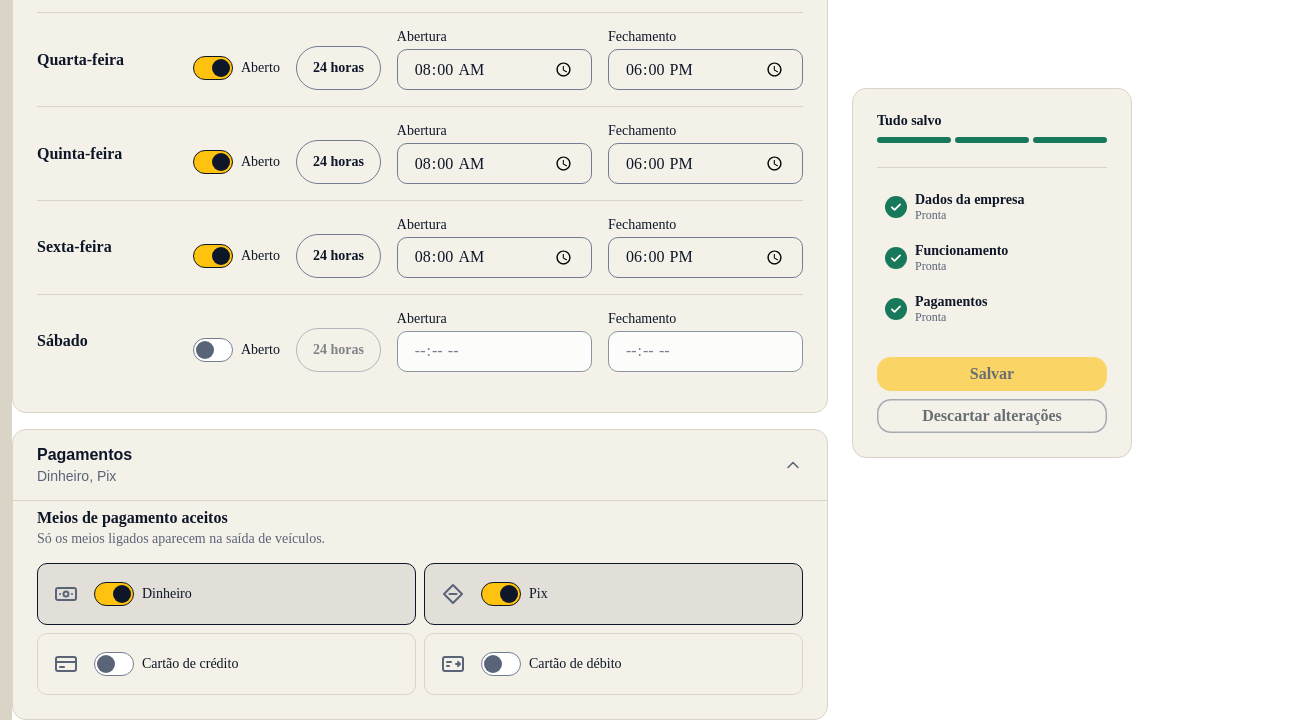
Scenario: EmpresaForm: seção Pagamentos › começa sem alterações e liga o Salvar ao mudar um meio
(page scrolled)
Check: the switch named "Dinheiro" is shown, box 94,582 -> 134,606
Check: the button "Salvar" is disabled, box 877,357 -> 1107,391
Click the switch named "Cartão de crédito" at (114, 664), box 94,652 -> 134,676
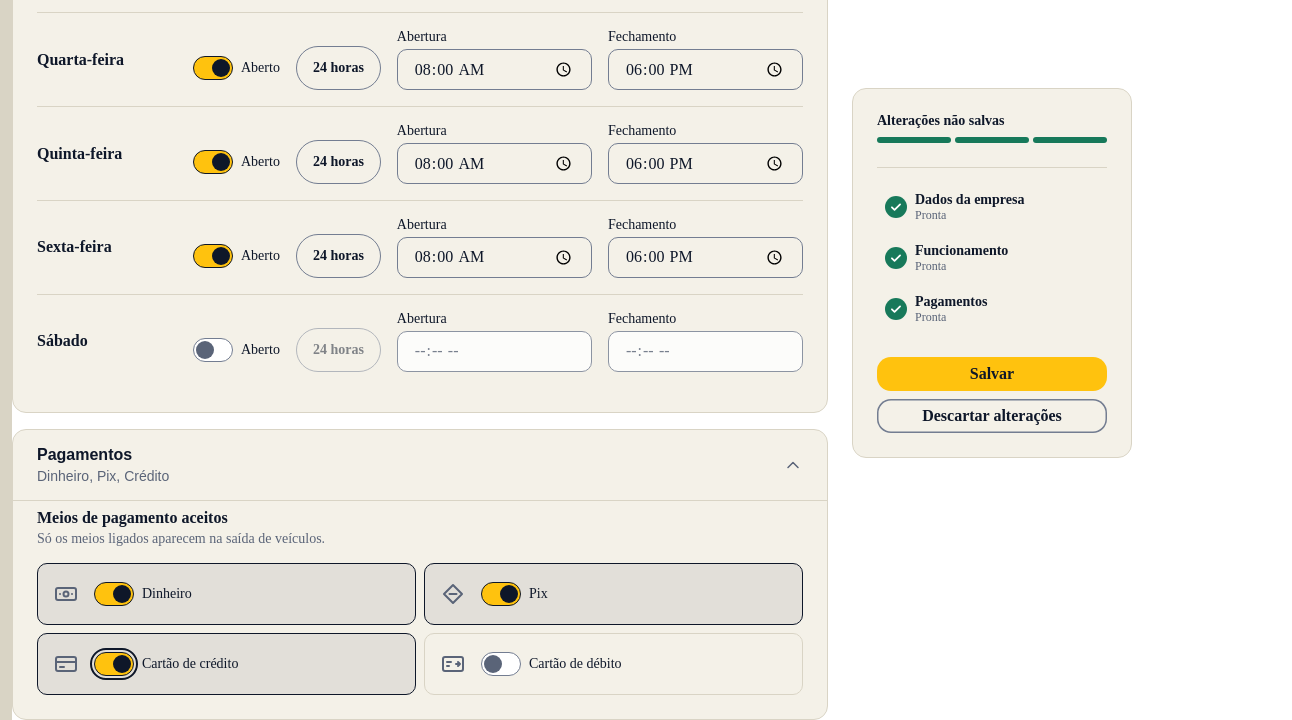
Check: the button "Salvar" is enabled, box 877,357 -> 1107,391
Check: the button "Descartar alterações" is enabled, box 877,399 -> 1107,433
